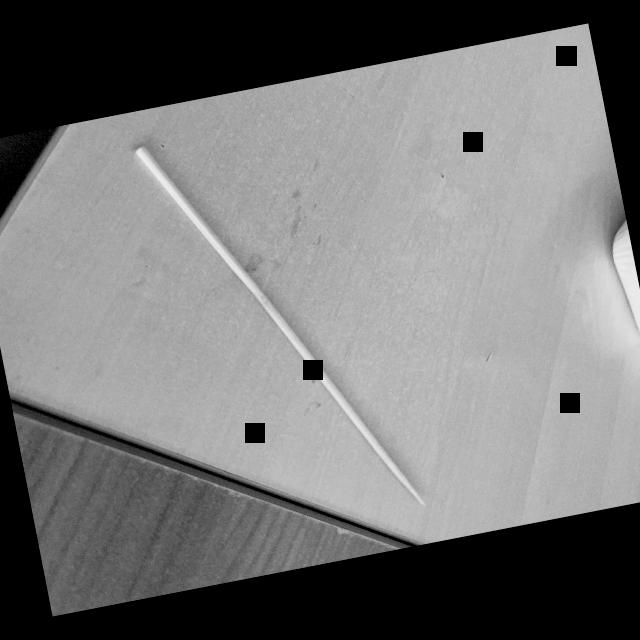stick: (132, 94, 431, 549)
